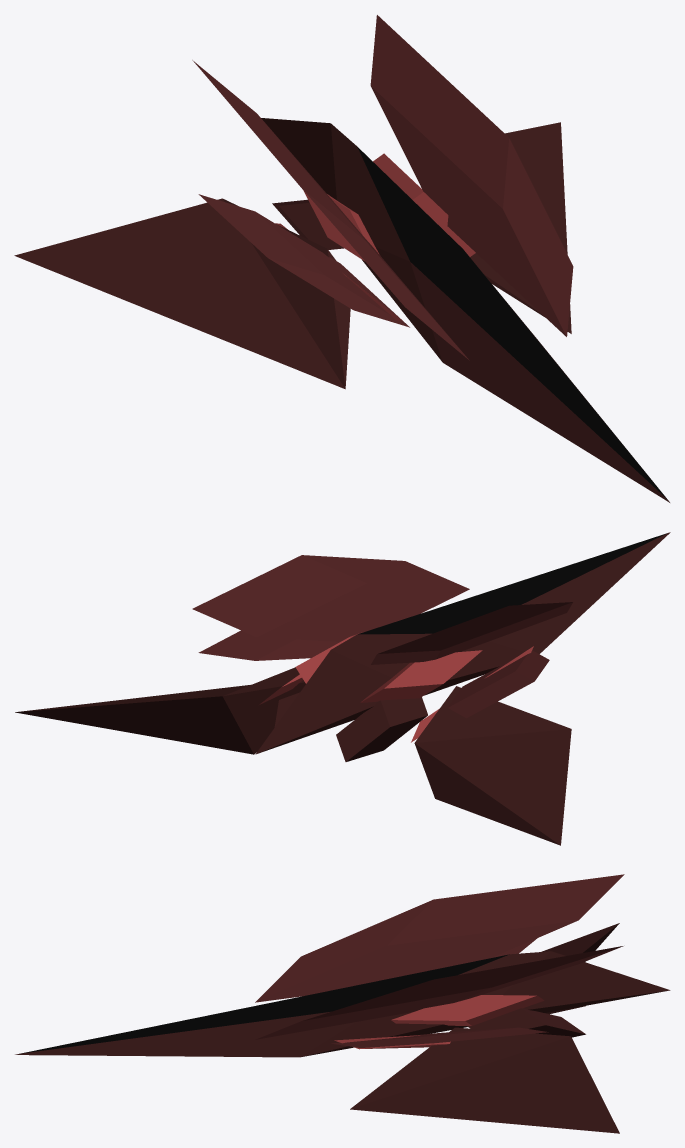
3 renders of one model, top to bottom at view 1: azimuth 30°, elevation 25°; view 2: azimuth 150°, elevation 25°; view 3: azimuth 270°, elevation 25°, orthographic. The views are drawn at different scales.
Parts seen in each view (by area): view 1: LowPolySpaceship07; view 2: LowPolySpaceship07; view 3: LowPolySpaceship07.
Part boxes in pixels (box(x1,y1,x2,y2)): LowPolySpaceship07: box(14, 15, 669, 502); LowPolySpaceship07: box(15, 532, 670, 845); LowPolySpaceship07: box(15, 874, 670, 1133).
Size of the model in its own units: 4.02 by 1.39 by 5.29.
